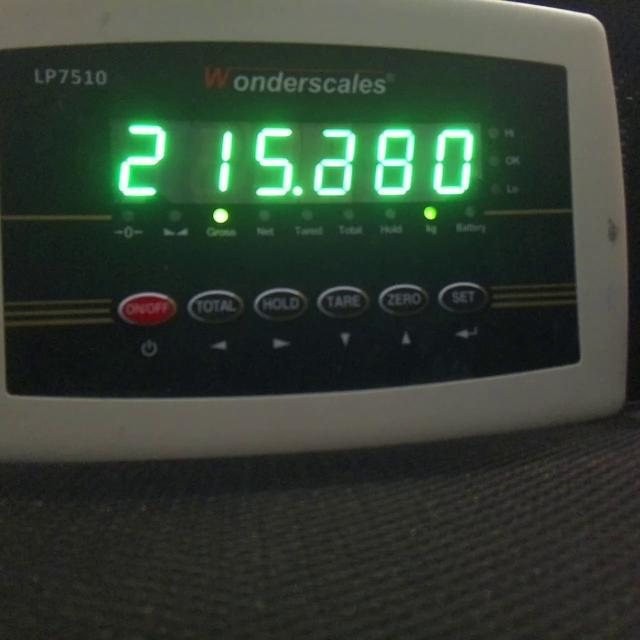.: (292, 186, 302, 196)
0: (434, 128, 474, 195)
1: (218, 131, 232, 192)
2: (312, 120, 356, 204), (118, 123, 167, 197)
5: (254, 126, 294, 202)
8: (373, 128, 415, 195)
